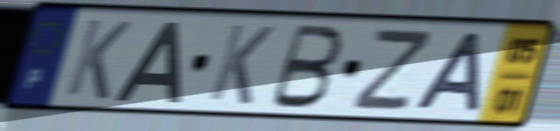A: (410, 30, 486, 117), (111, 19, 184, 106)
B: (265, 21, 347, 112)
K: (61, 16, 135, 103), (204, 21, 278, 108)
Z: (346, 28, 438, 114)
